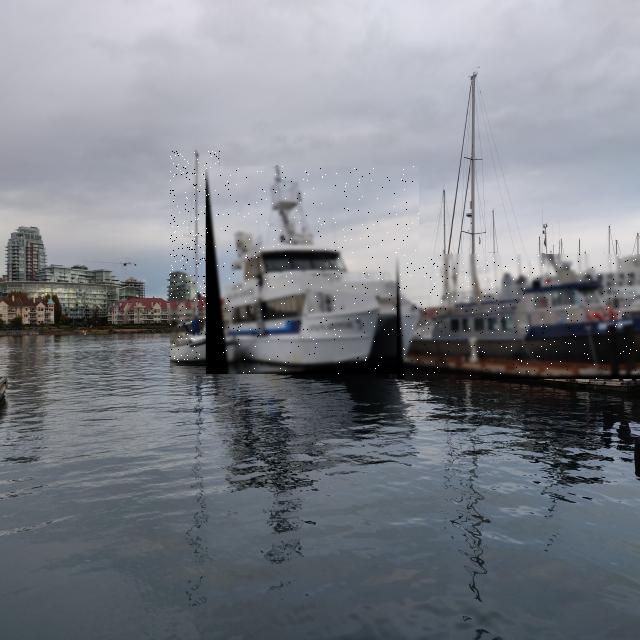boat: (206, 166, 419, 374), (397, 254, 640, 379), (170, 150, 220, 366)
